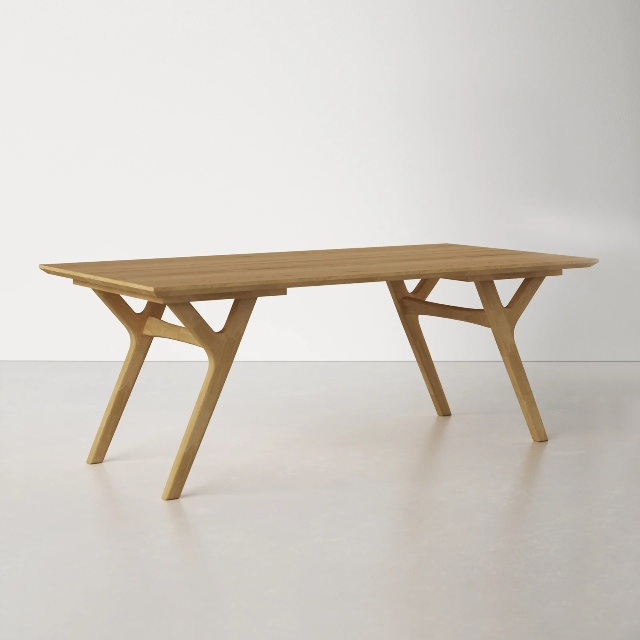obstacle: (40, 244, 598, 500)
